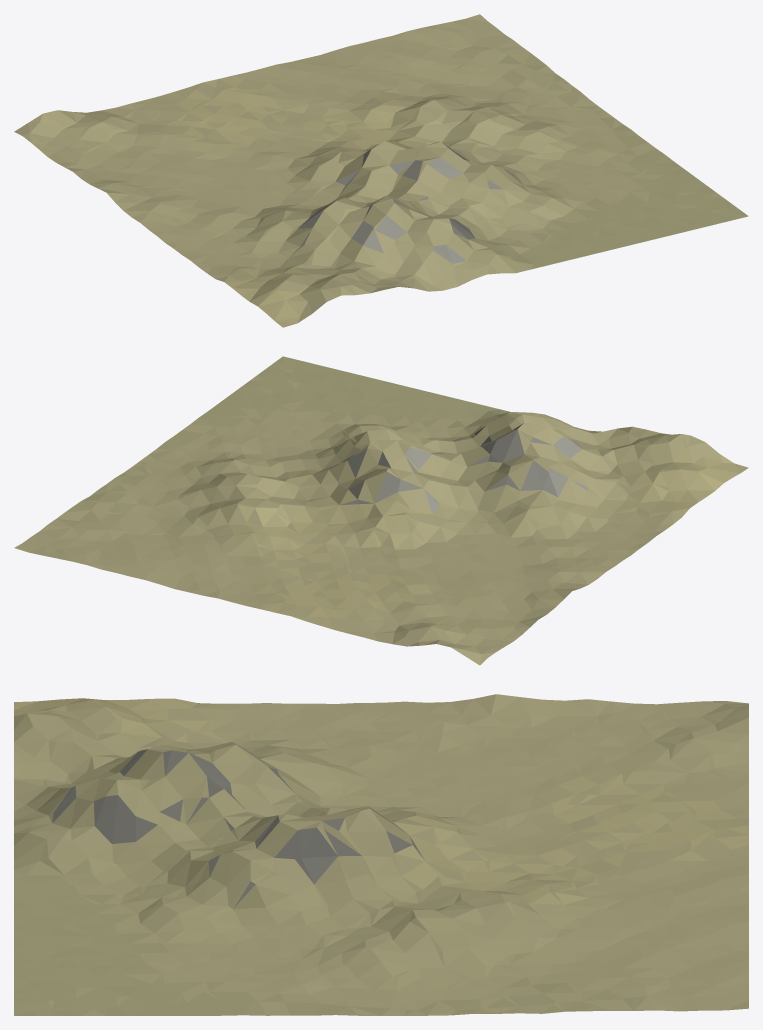
Rendered from Ground_5_4.glb.
The picture shows the model from 3 angles, top to bottom: view 1: azimuth 30°, elevation 25°; view 2: azimuth 150°, elevation 25°; view 3: azimuth 270°, elevation 25°; orthographic projection. The views are drawn at different scales.
Parts seen in each view (by area): view 1: Ground_5_4; view 2: Ground_5_4; view 3: Ground_5_4.
Part boxes in pixels (<box>): Ground_5_4: <box>14,14,748,327</box>; Ground_5_4: <box>14,356,748,665</box>; Ground_5_4: <box>14,694,748,1015</box>.
Size of the model in its own units: 768 by 76.42 by 768.
